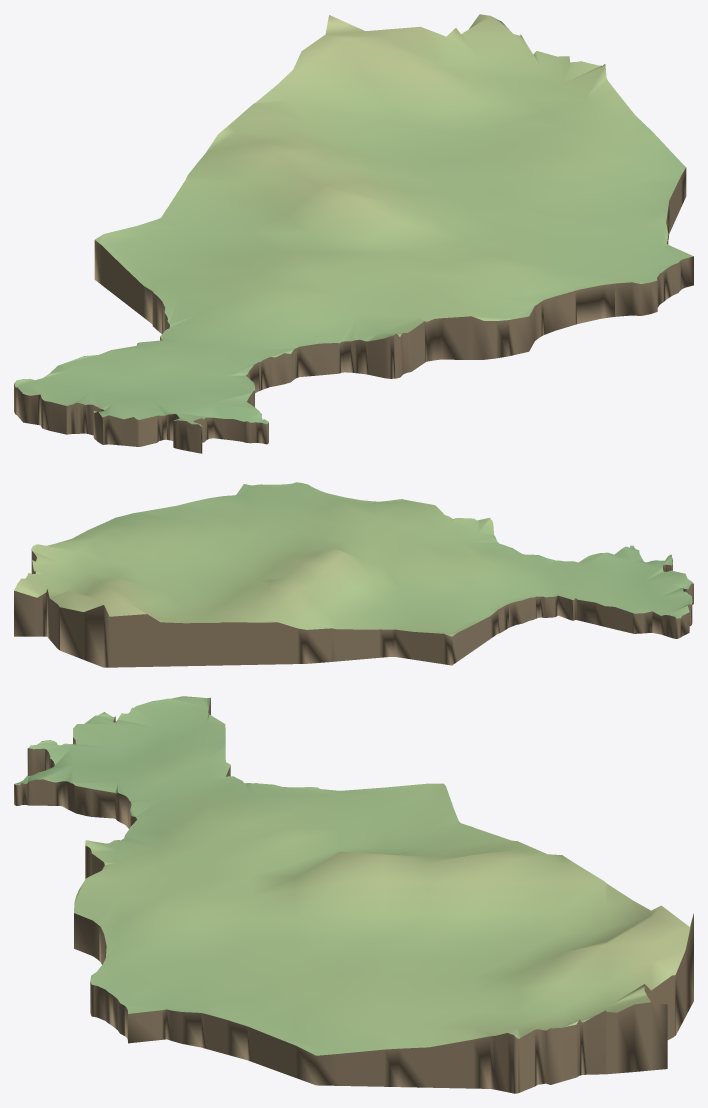
The model's file is NER.glb.
3 renders of one model, top to bottom at view 1: azimuth 30°, elevation 25°; view 2: azimuth 150°, elevation 25°; view 3: azimuth 270°, elevation 25°, orthographic. The views are drawn at different scales.
Visible parts, largest first — view 1: NER; view 2: NER; view 3: NER.
Part boxes in pixels (x1,y1,x2,y2): NER: [14, 14, 693, 453]; NER: [14, 482, 693, 667]; NER: [14, 696, 693, 1093].
Bounding box in the file's own units: 1.67 × 0.1865 × 1.3.
